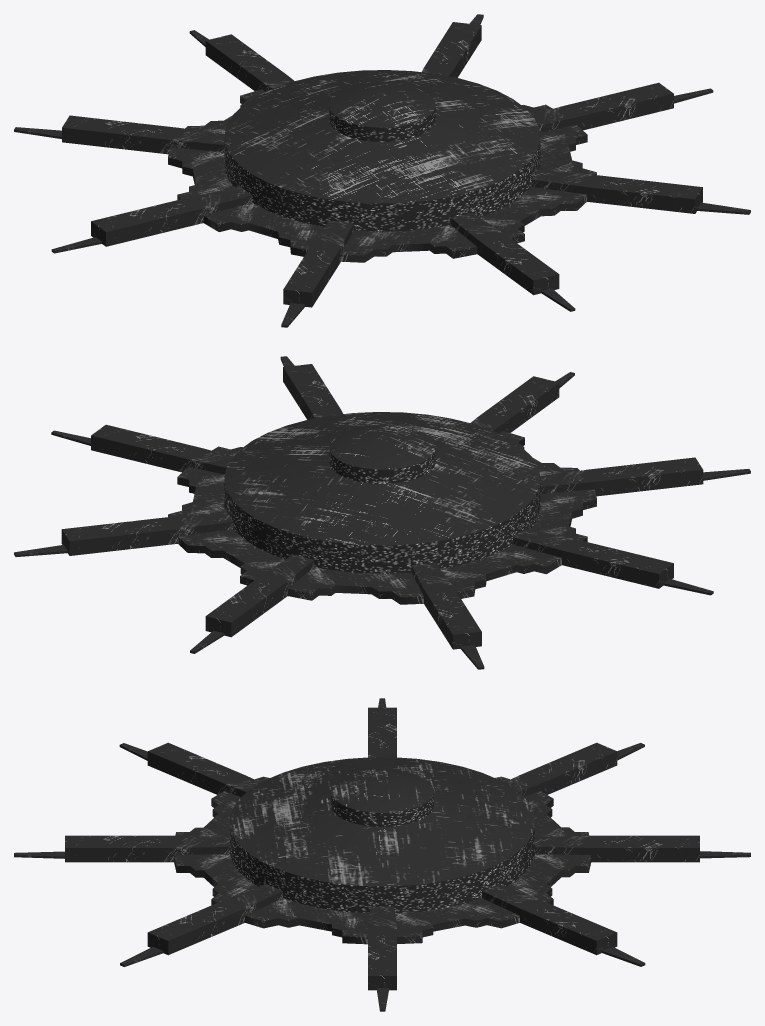
File: anubis.FBX
The picture shows the model from 3 angles, top to bottom: view 1: azimuth 30°, elevation 25°; view 2: azimuth 150°, elevation 25°; view 3: azimuth 270°, elevation 25°; orthographic projection. The views are drawn at different scales.
Parts seen in each view (by area): view 1: Cylinder001; view 2: Cylinder001; view 3: Cylinder001.
Boxes of the visible parts, bbox=[...] form: Cylinder001: bbox=[14, 14, 750, 327]; Cylinder001: bbox=[14, 356, 750, 669]; Cylinder001: bbox=[14, 698, 750, 1011].
Size of the model in its own units: 1877 by 213 by 1877.
